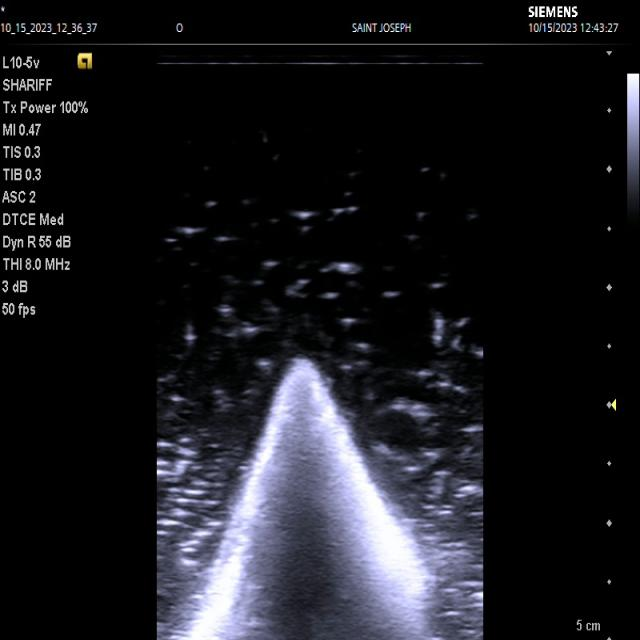tissue: (179, 358, 441, 640)
